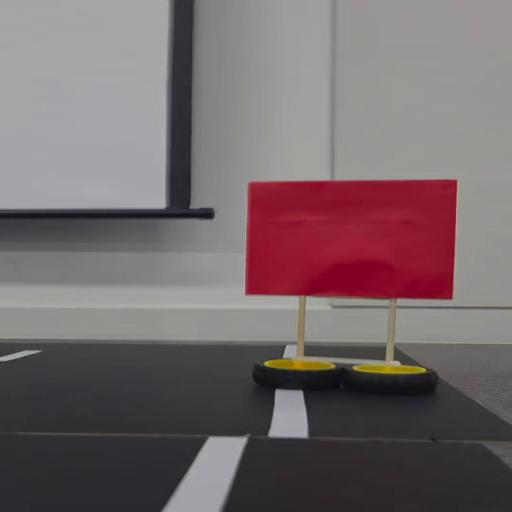Sign_A: (234, 174, 472, 399)
